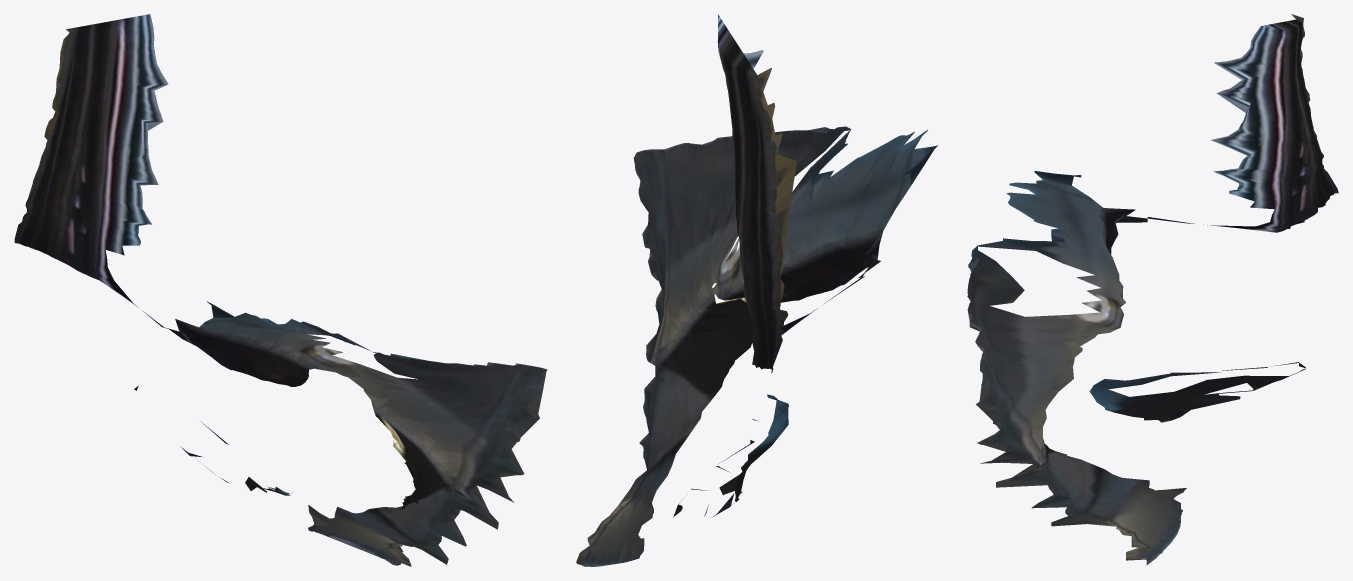
File: observed-surface.glb
The picture shows the model from 3 angles, left to right: view 1: azimuth 30°, elevation 25°; view 2: azimuth 150°, elevation 25°; view 3: azimuth 270°, elevation 25°; orthographic projection. The views are drawn at different scales.
Visible parts, largest first — view 1: geometry_0; view 2: geometry_0; view 3: geometry_0.
Boxes of the visible parts, box(x1,y1,x2,y2) form: geometry_0: box(14, 14, 547, 566); geometry_0: box(576, 14, 937, 566); geometry_0: box(967, 14, 1338, 564).
Bounding box in the file's own units: 0.3859 × 0.619 × 0.448.
1 material, 1 textured.
